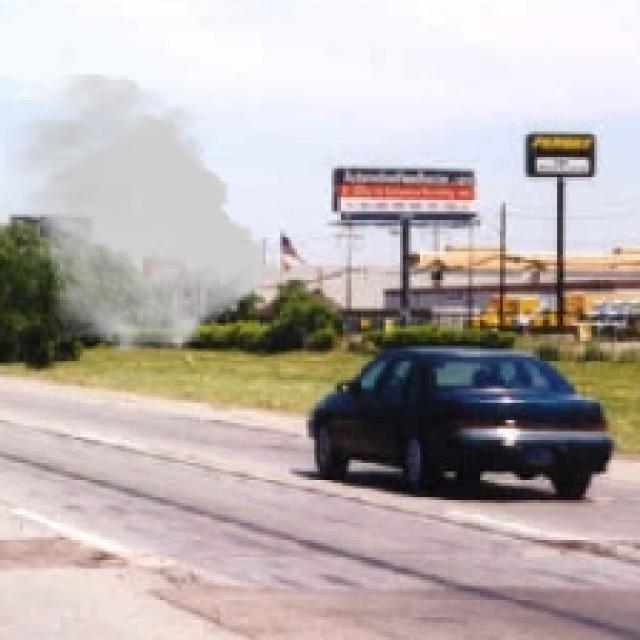Smoke: (6, 74, 266, 354)
